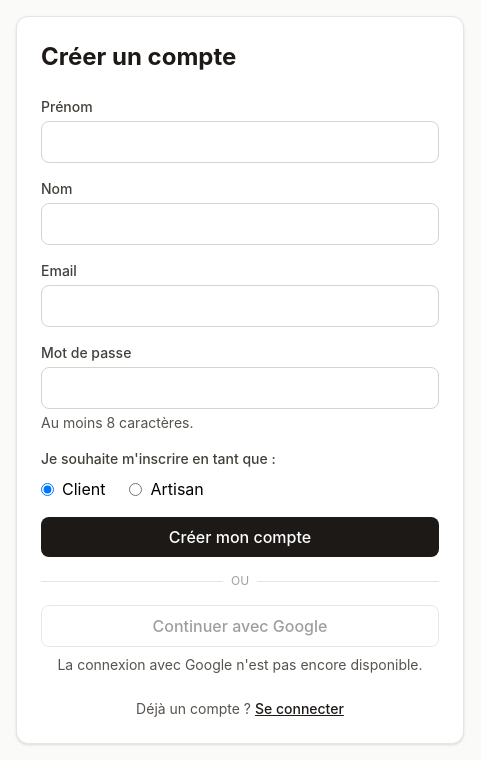
Test: RegisterPage › displays a specific error for USER_ALREADY_EXISTS
Step 1. Type " Alice " into the field labelled "Prénom" → coordinates (240, 142), box [41,121,439,163]
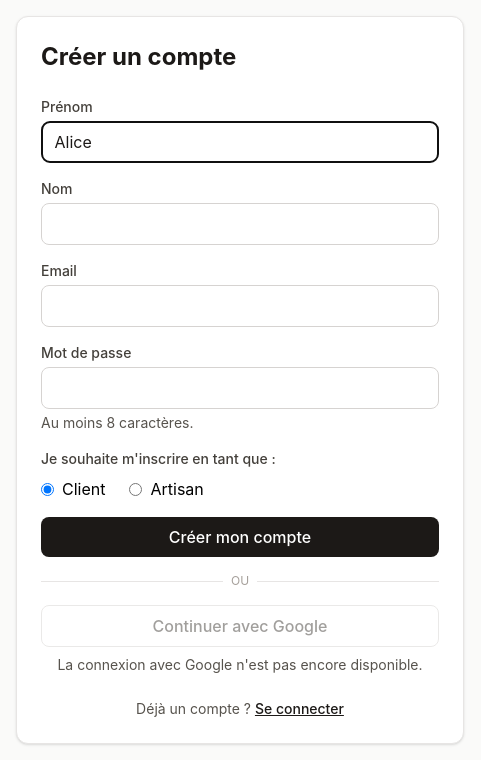
Step 2. Type " Martin " into the field labelled "Nom" → coordinates (240, 224), box [41,203,439,245]
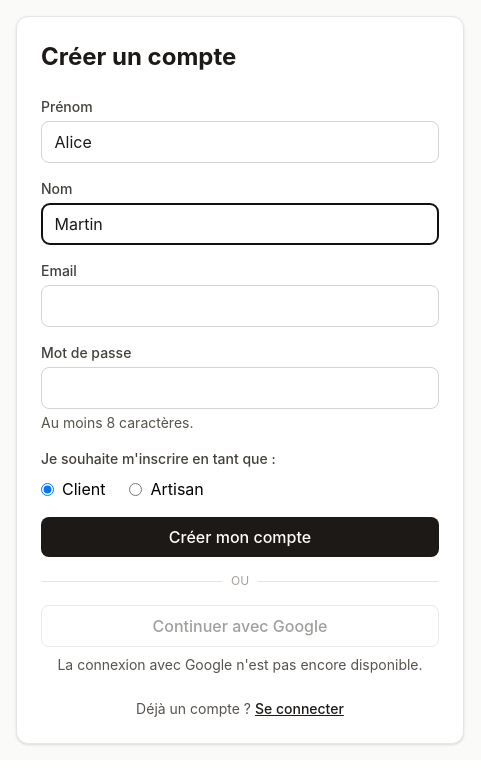
Step 3. Type "alice@example.fr" into the field labelled "Email" → coordinates (240, 306), box [41,285,439,327]
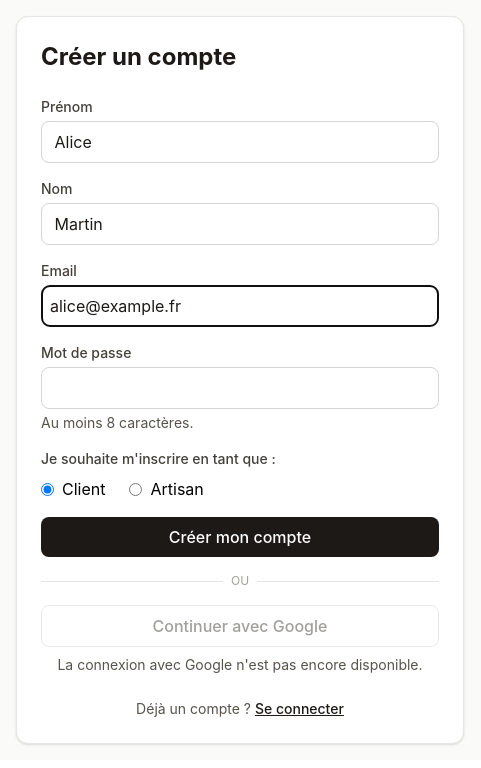
Step 4. Type "12345678" into the password field labelled "Mot de passe" → coordinates (240, 388), box [41,367,439,409]
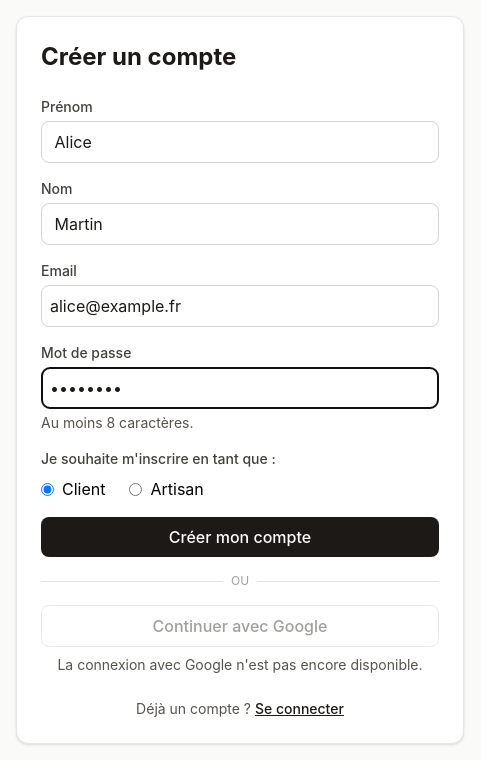
Step 5. Click the button "Créer mon compte" → coordinates (240, 537), box [41,517,439,557]
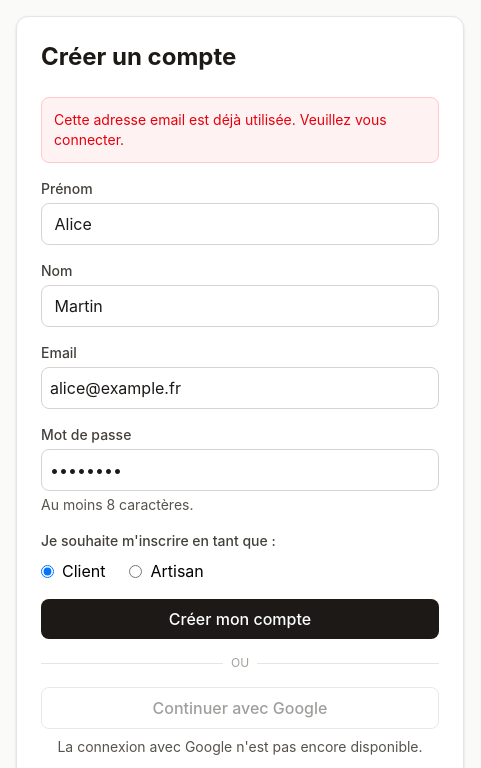
Now the message shows "Cette adresse email est déjà utilisée", box [54,111,387,148]
